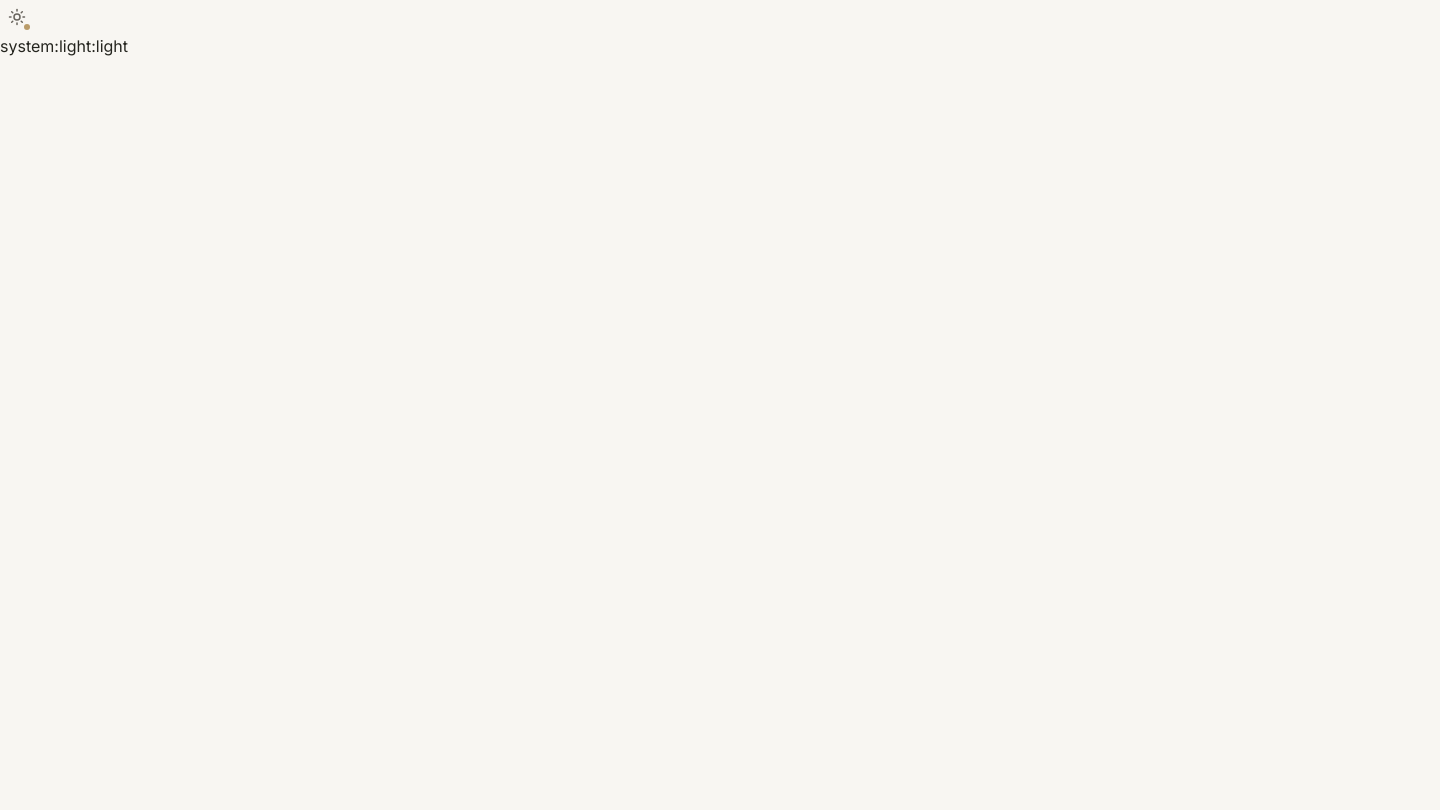
it: ThemeProvider › persists an explicit choice from the menu and updates the painted theme
The width and height of the screenshot is (1440, 810).
Click the button named "Theme settings".
click(17, 17)  # box [0,0,34,34]
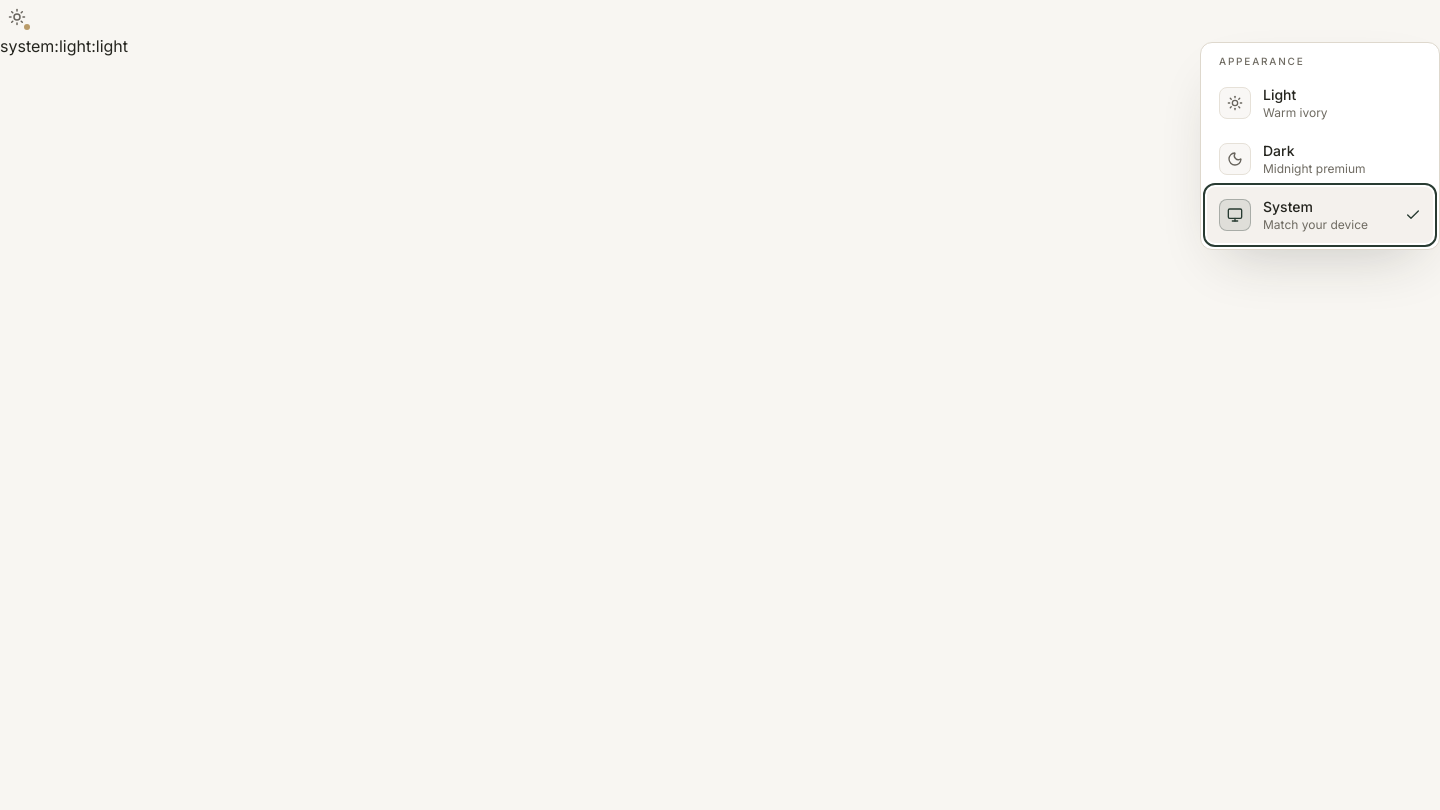
Click the menu item "Dark Midnight premium".
click(1320, 159)  # box [1207,131,1433,187]
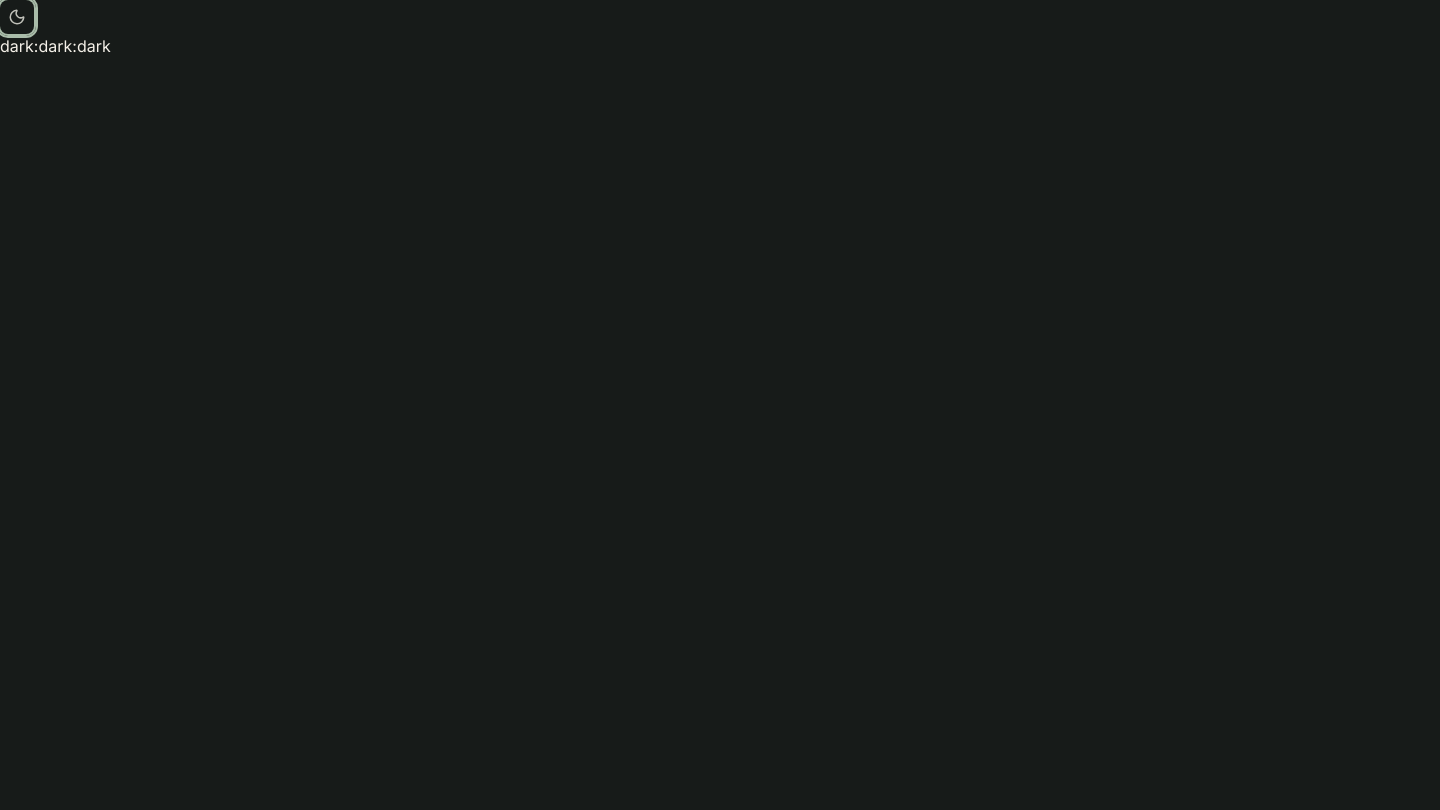
expect the text with test id "theme-value" reads "dark:dark:dark": met, box [0,36,111,56]
expect the menu is gone: met
